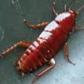cockroach: (15, 8, 76, 76)
